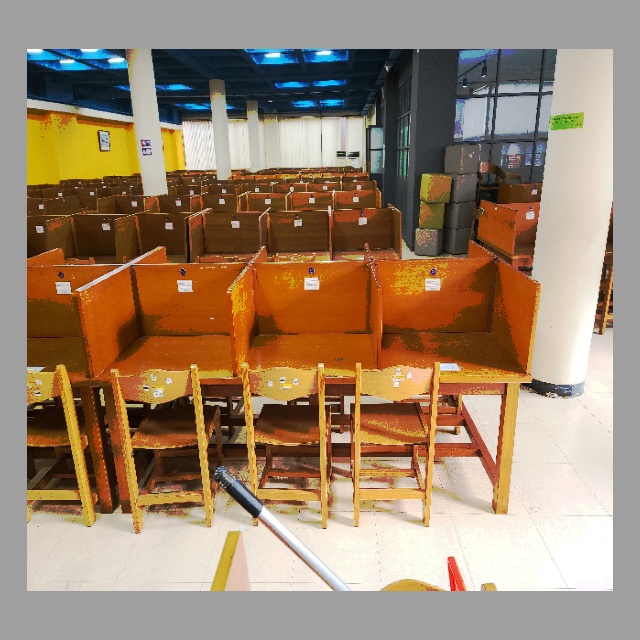empty: (76, 259, 236, 452), (384, 263, 536, 456), (244, 263, 380, 448)
